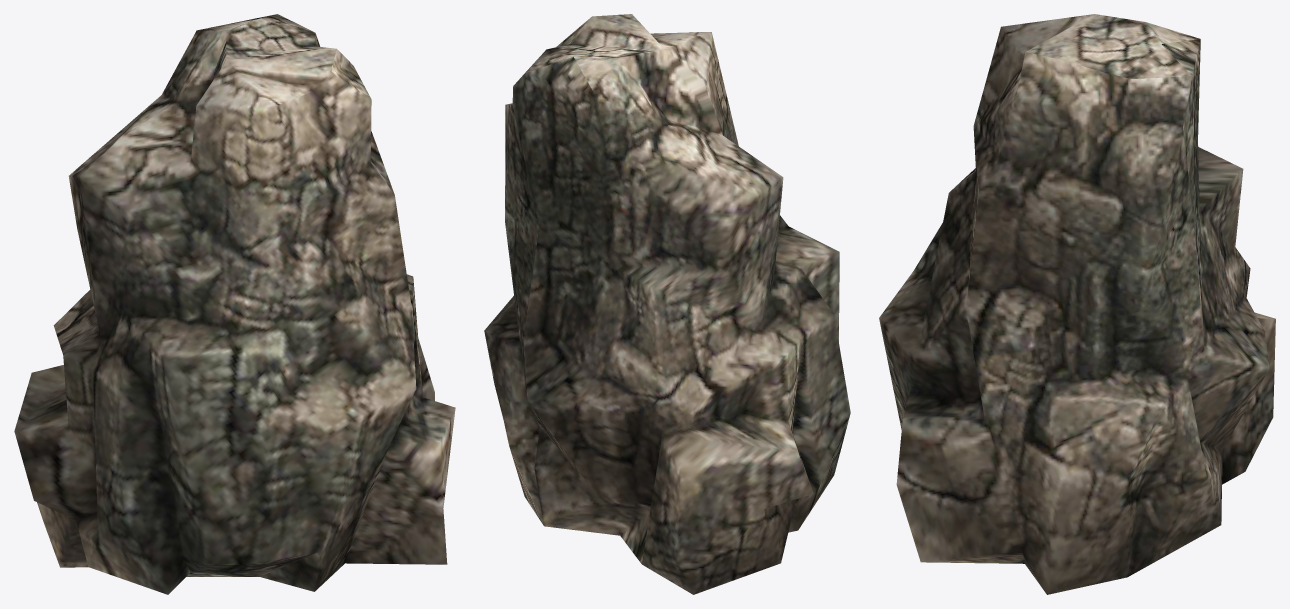
The model's file is Rock2.FBX.
3 views of the same model, side by side, from view 1: azimuth 30°, elevation 25°; view 2: azimuth 150°, elevation 25°; view 3: azimuth 270°, elevation 25° (orthographic). The views are drawn at different scales.
Visible parts, largest first — view 1: Rock2_34; view 2: Rock2_34; view 3: Rock2_34.
Part boxes in pixels (x1,y1,x2,y2): Rock2_34: (14, 14, 455, 594); Rock2_34: (484, 14, 850, 594); Rock2_34: (879, 14, 1275, 594).
Bounding box in the file's own units: 241 × 318 × 222.
1 material, 1 textured.
